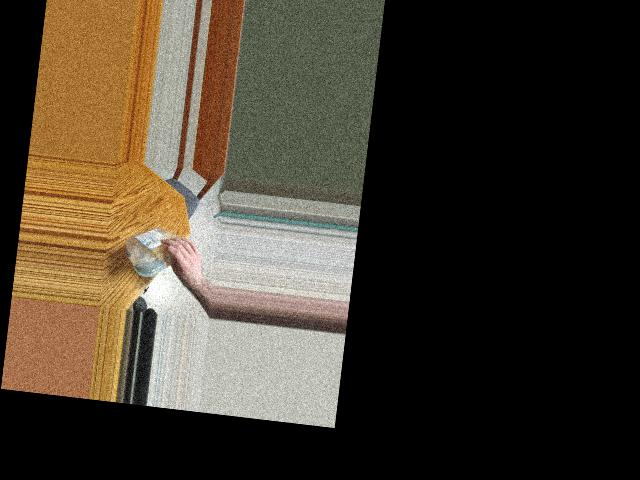cheese: (120, 220, 191, 280)
